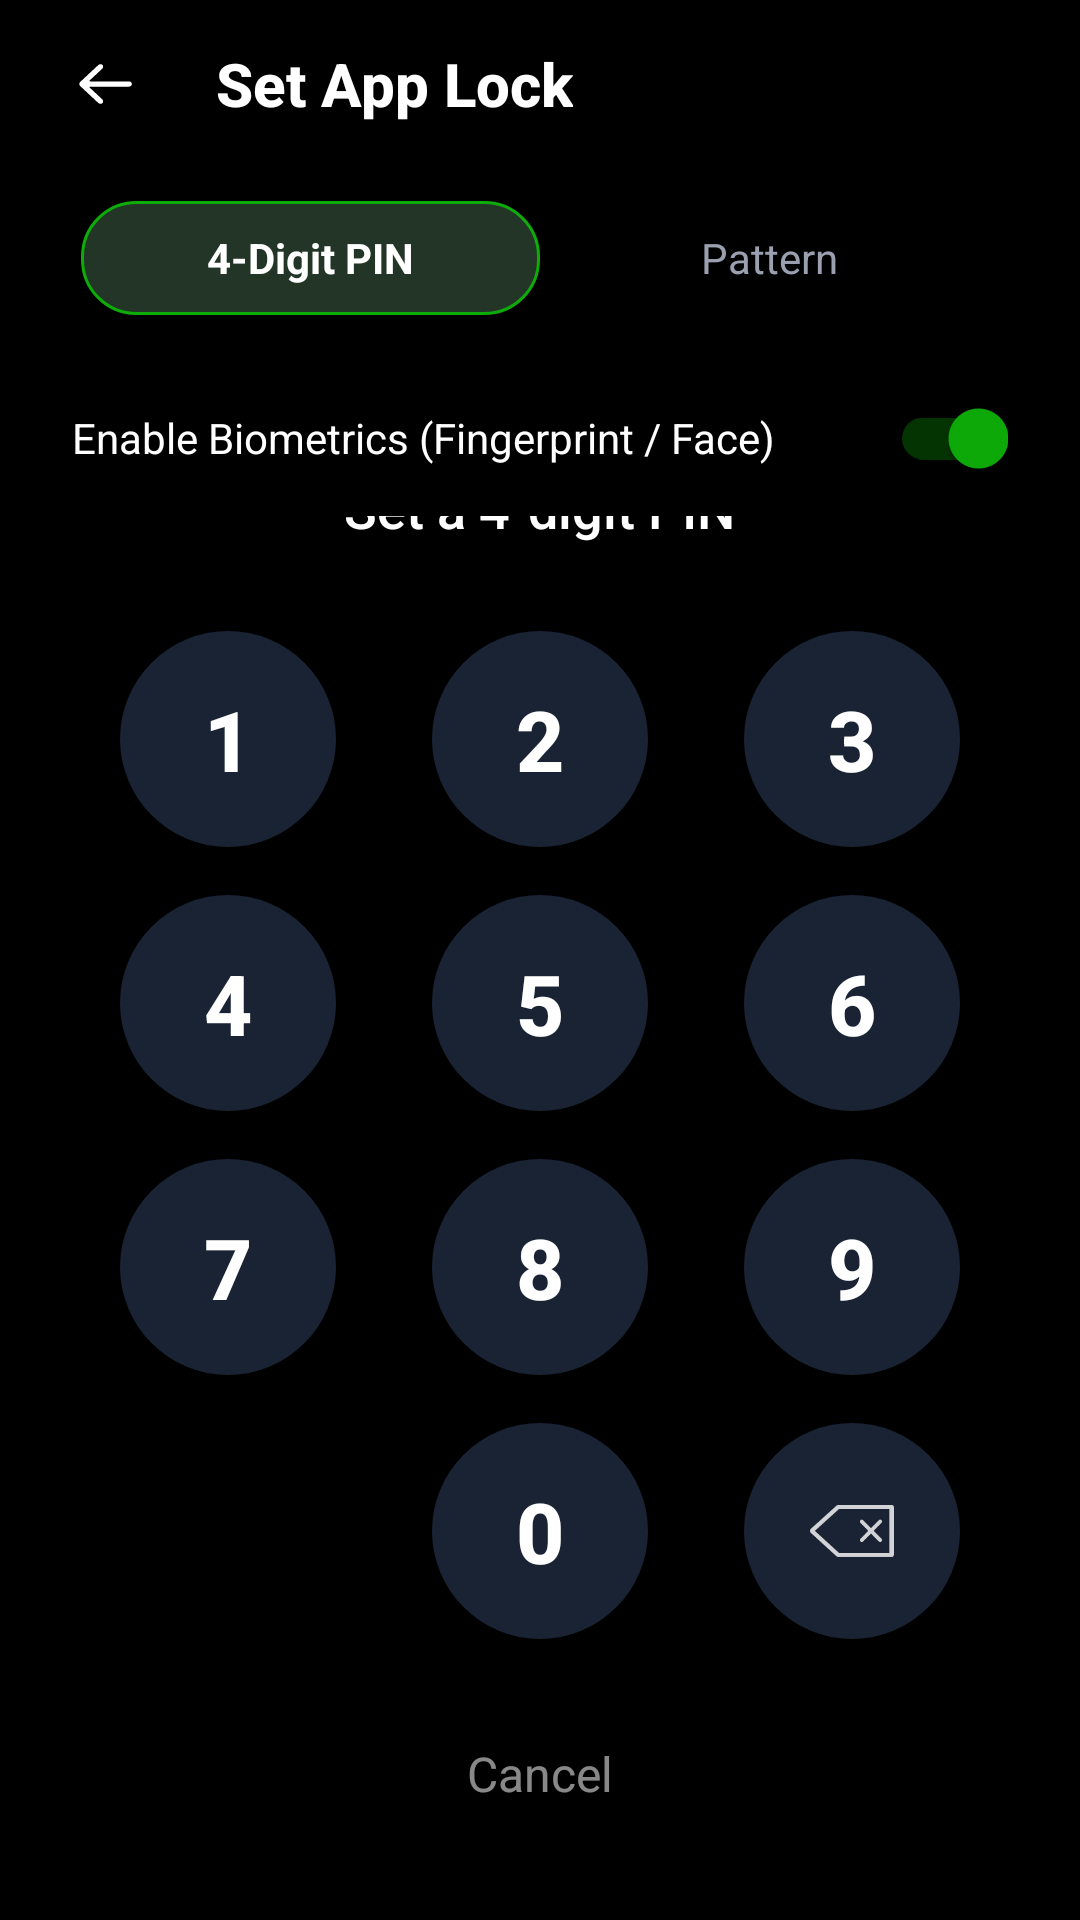

Locate icon controls on the screen. Image size 1080 x 1920, boxes as bbox=(x1, y1, x2, y2).
back: bbox=(79, 64, 132, 104)
backspace: bbox=(810, 1505, 894, 1557)
